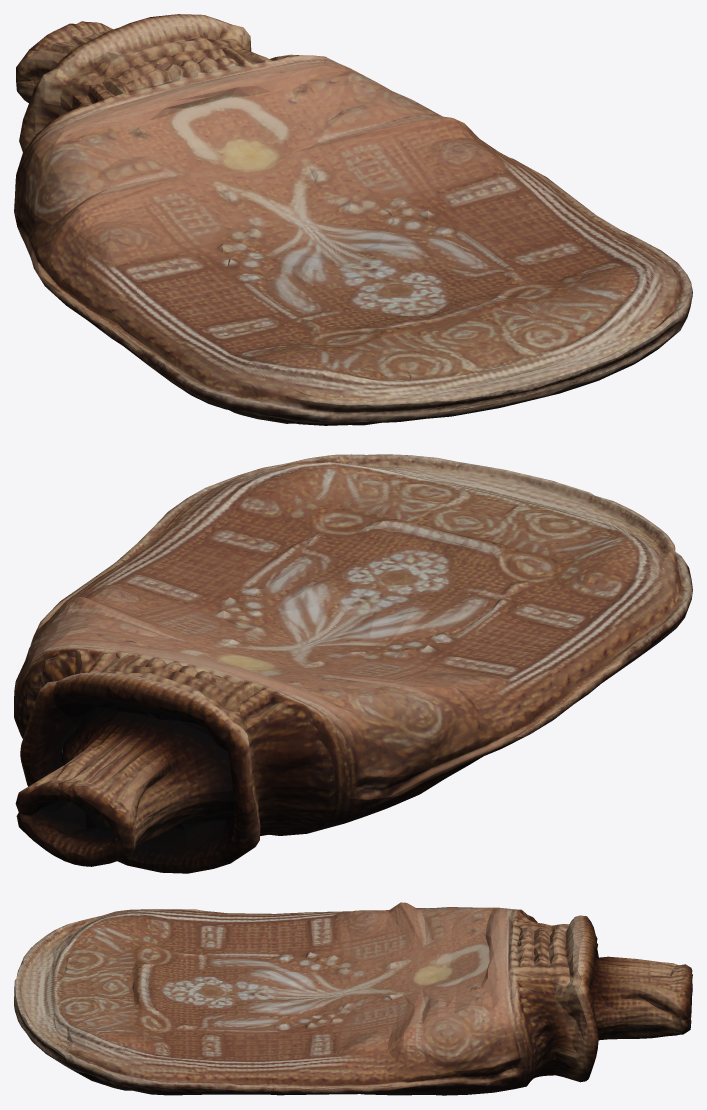
Rendered from jute-exfoliating-mitt-art-deco.jpeg.glb.
3 renders of one model, top to bottom at view 1: azimuth 30°, elevation 25°; view 2: azimuth 150°, elevation 25°; view 3: azimuth 270°, elevation 25°, orthographic. The views are drawn at different scales.
Parts seen in each view (by area): view 1: world; view 2: world; view 3: world.
Part boxes in pixels (bbox=[...]): world: bbox=[14, 14, 692, 425]; world: bbox=[14, 454, 692, 873]; world: bbox=[14, 902, 692, 1095].
Bounding box in the file's own units: 0.6167 × 0.2232 × 1.
Materials: 1 (1 with a texture image).
